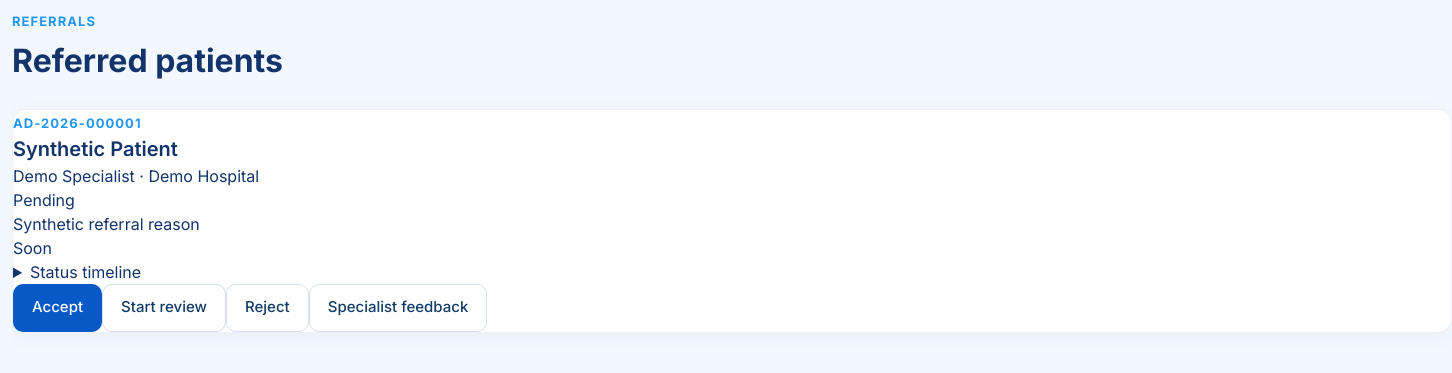
Test: Phase 8 appointment and referral screens › lets the assigned specialist update a referral and displays its timeline
The width and height of the screenshot is (1452, 373).
Later steps or results of the test are not shown.
expect the text "Synthetic referral reason" is shown: met, box [13,214,200,234]
Click the heading "Status timeline" at (86, 272), box [30,262,141,282]
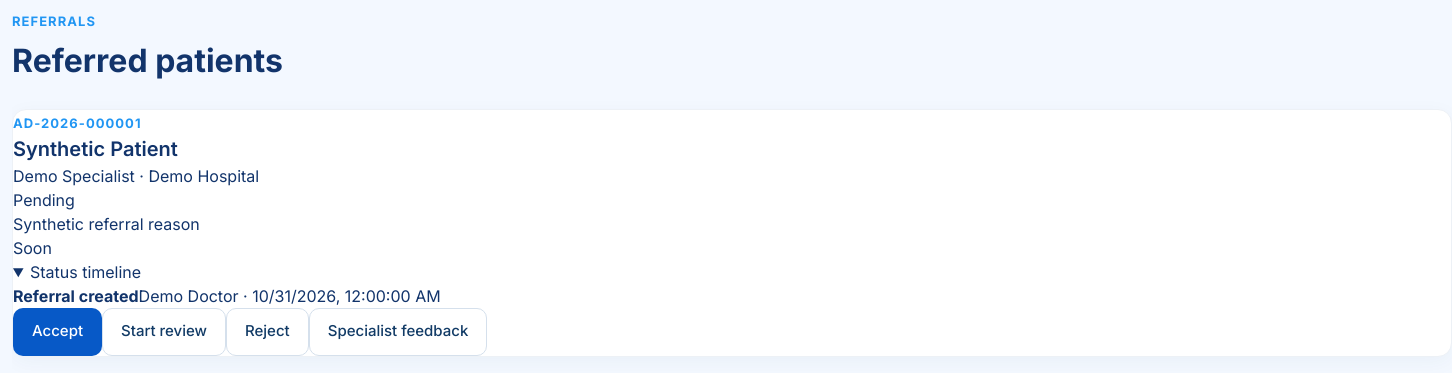
expect the text "Referral created" is shown: met, box [13,286,139,306]
